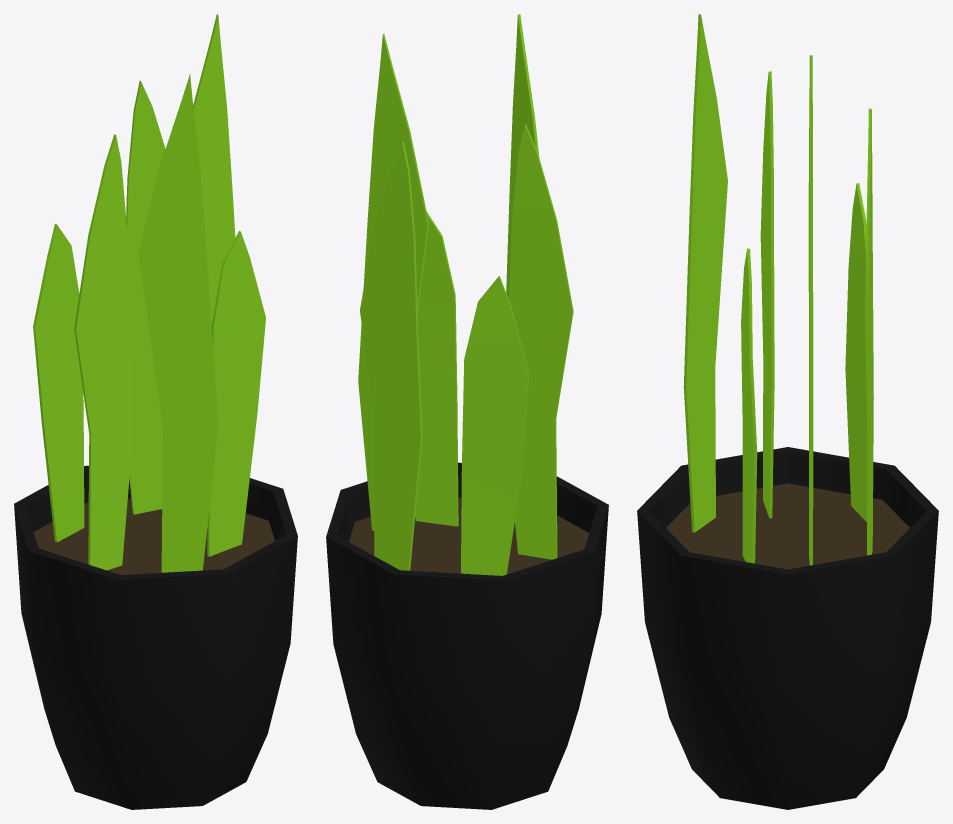
Rendered from Houseplant_4.glb.
The picture shows the model from 3 angles, left to right: view 1: azimuth 30°, elevation 25°; view 2: azimuth 150°, elevation 25°; view 3: azimuth 270°, elevation 25°; orthographic projection. The views are drawn at different scales.
Parts seen in each view (by area): view 1: Houseplant_4; view 2: Houseplant_4; view 3: Houseplant_4.
Part boxes in pixels (x1,y1,x2,y2): Houseplant_4: (14, 14, 297, 809); Houseplant_4: (326, 14, 608, 809); Houseplant_4: (637, 14, 938, 809).
Bounding box in the file's own units: 33.83 × 92.84 × 33.83.
